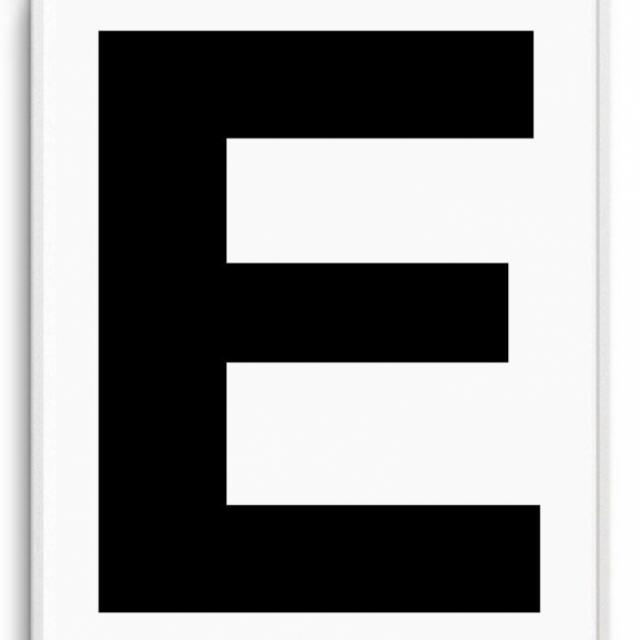E: (65, 20, 562, 628)
